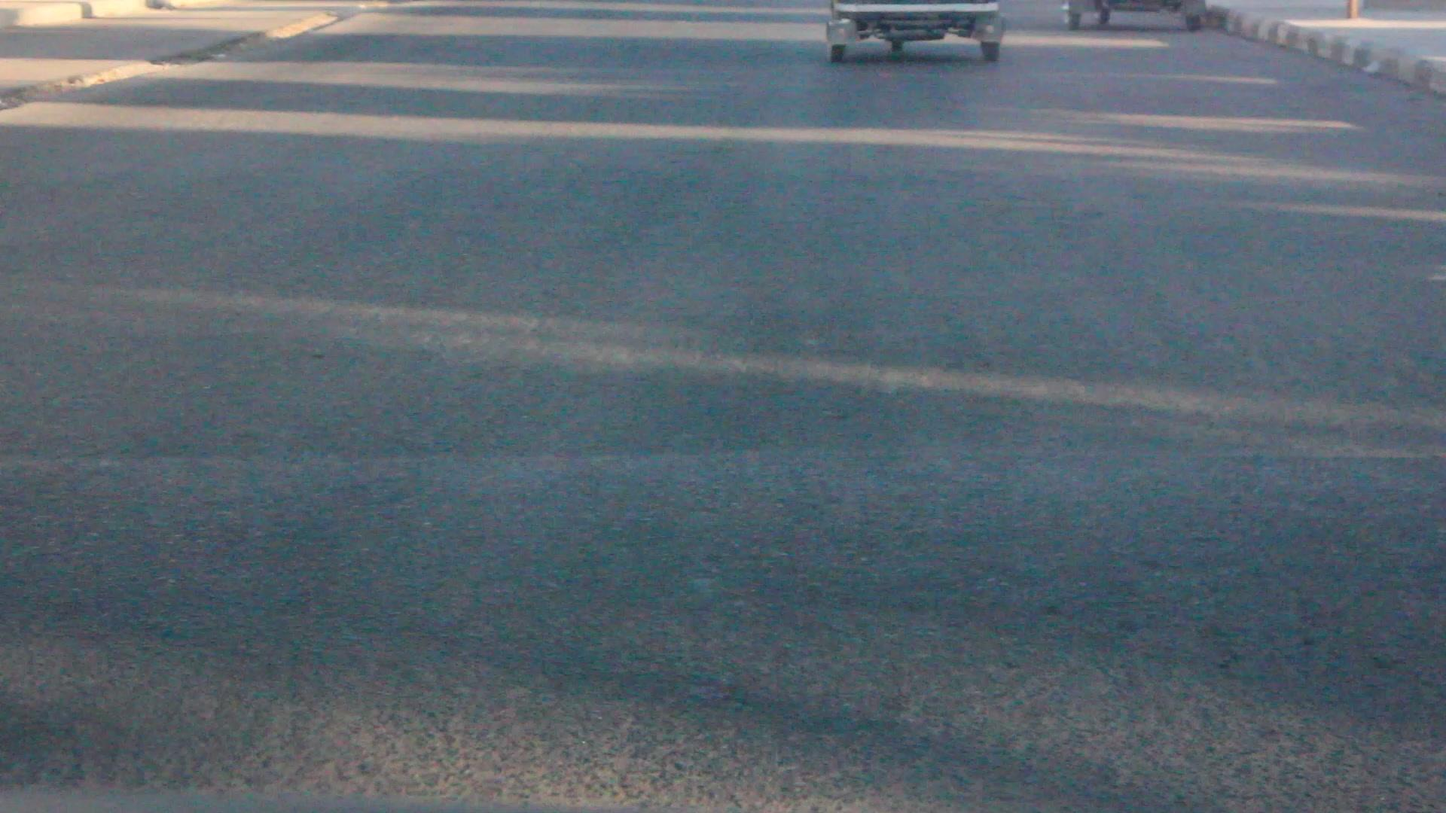Bump: (0, 446, 1446, 813)
